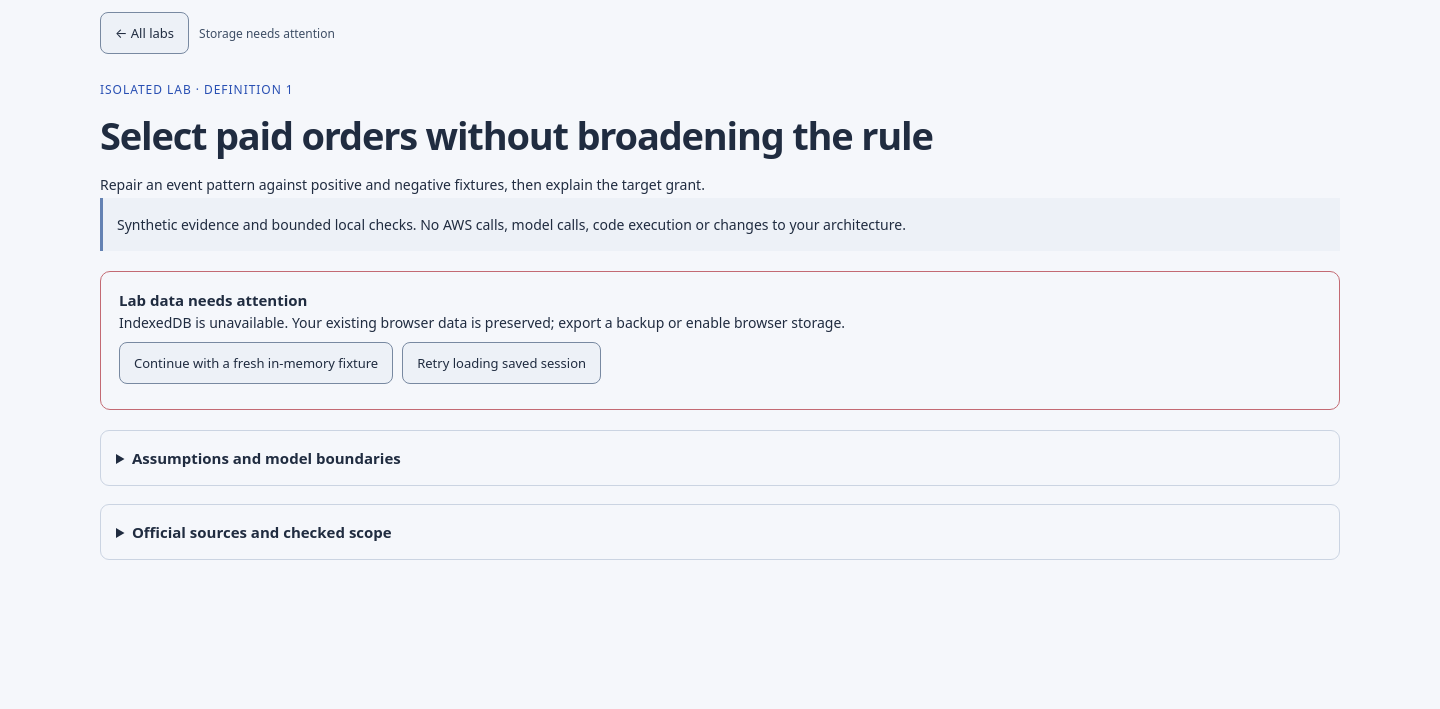
Test case: provides explicit in-memory recovery when storage is unavailable
The image size is (1440, 709).
Expected: the message that starts with "Lab data needs attention" is shown, [100, 271, 1340, 410]
Click the button "Continue with a fresh in-memory fixture".
click(256, 363)  # box [119, 342, 393, 384]
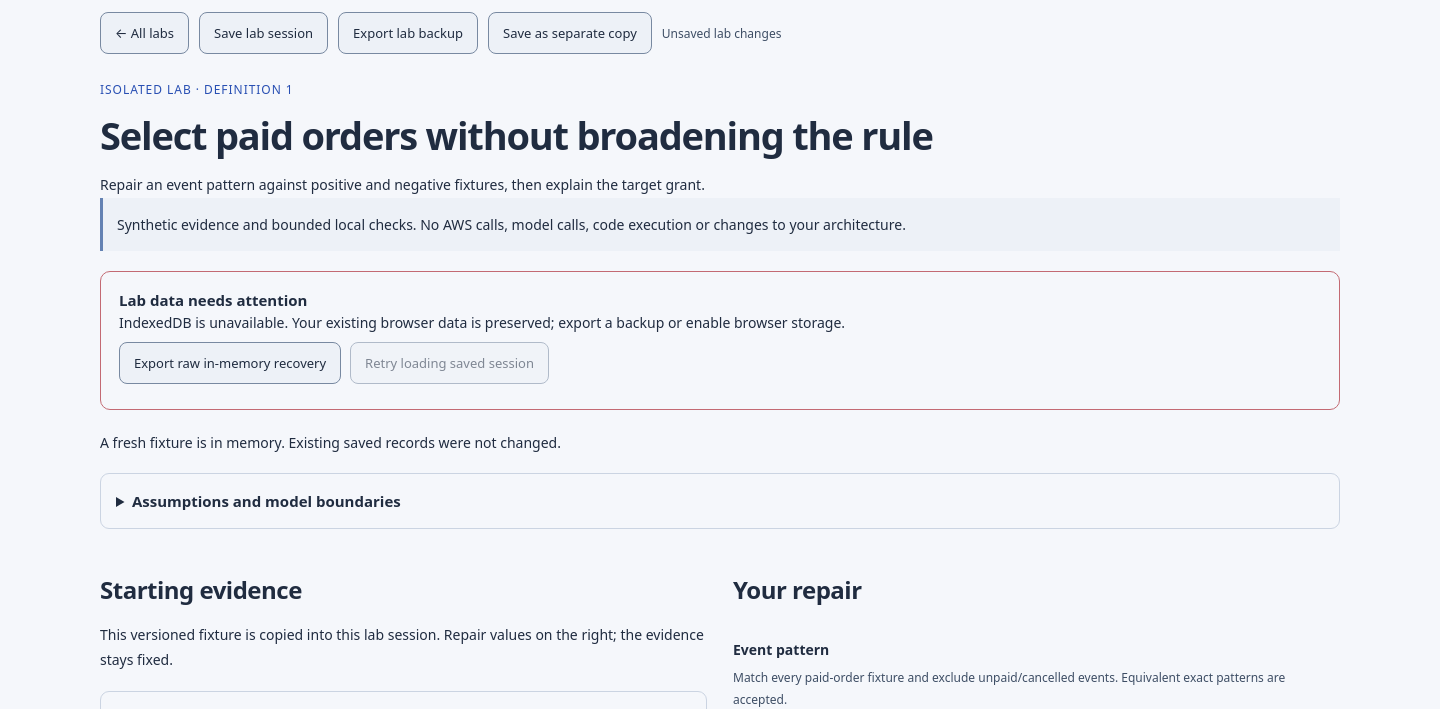
Expected: the button "Export lab backup" is shown, [338, 12, 478, 54]
Expected: the text "Unsaved lab changes" is shown, [662, 24, 781, 42]
